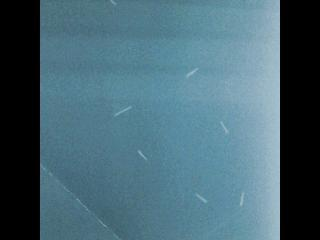crack: (40, 163, 121, 240)
scratch: (111, 100, 135, 121), (216, 114, 234, 139), (133, 145, 151, 164), (182, 65, 201, 82), (193, 191, 208, 204), (237, 189, 247, 208), (107, 0, 120, 9)
